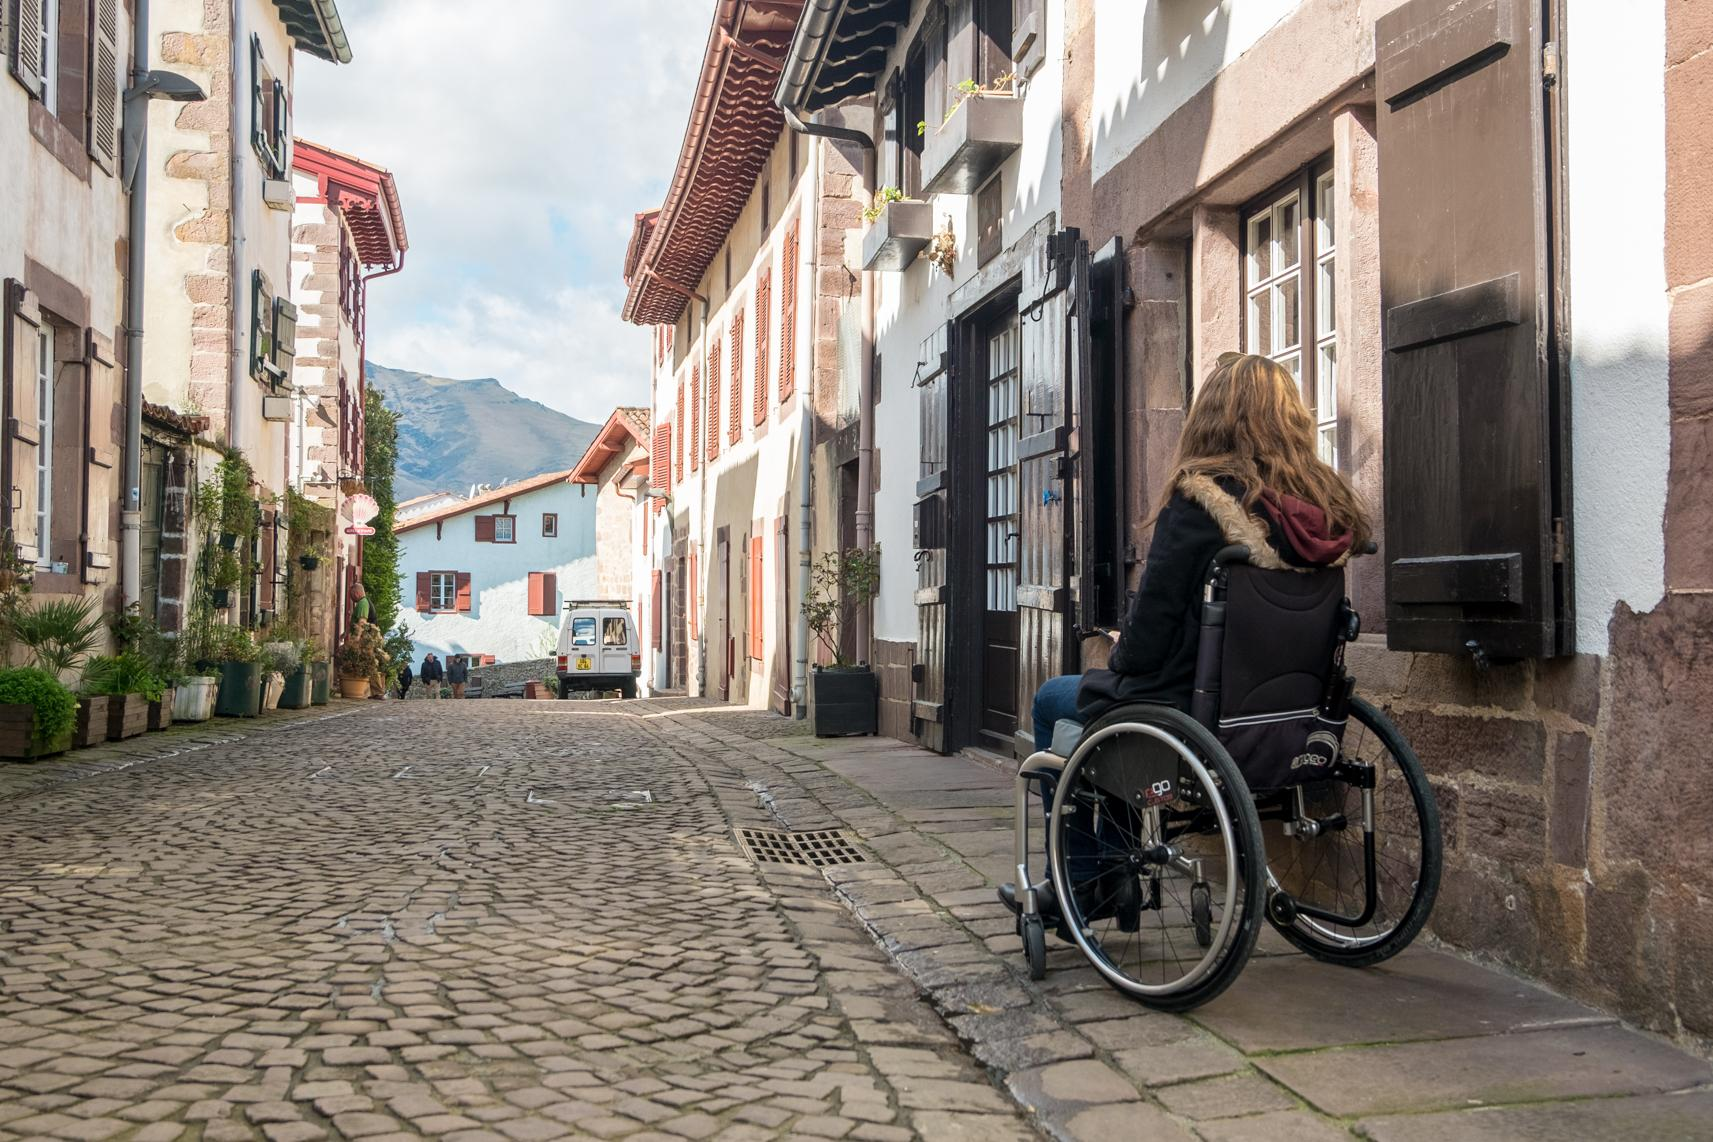wheelchair: (998, 351, 1444, 1012)
